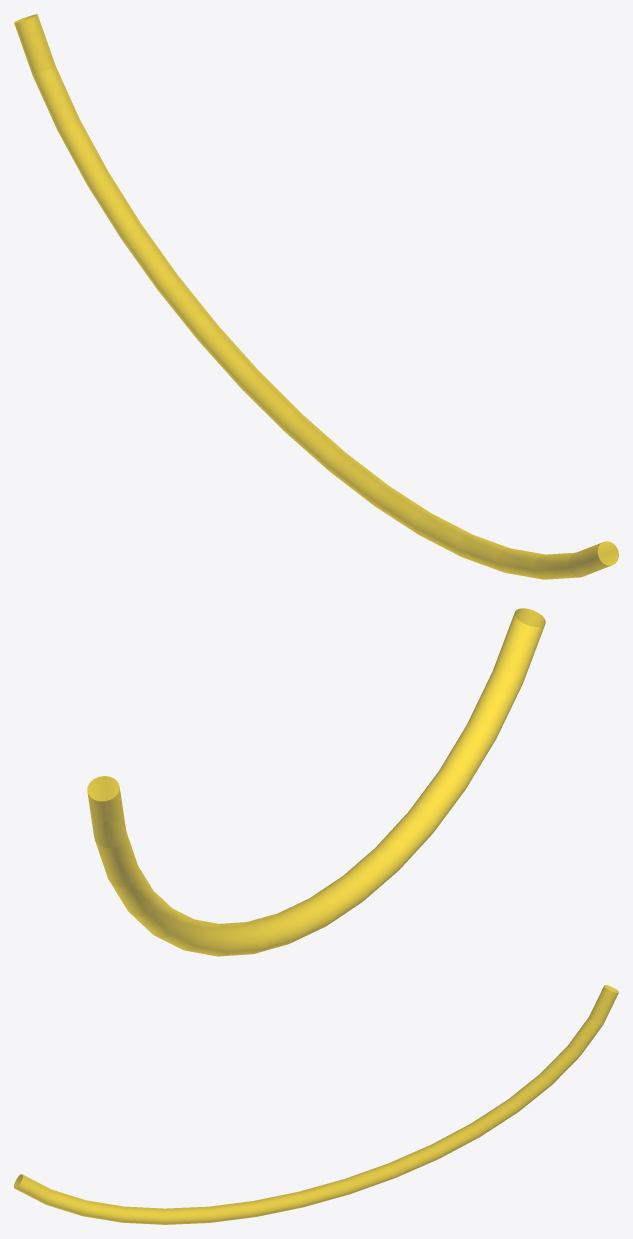
The model's file is Event_100608114_track_119.fbx.
The picture shows the model from 3 angles, top to bottom: view 1: azimuth 30°, elevation 25°; view 2: azimuth 150°, elevation 25°; view 3: azimuth 270°, elevation 25°; orthographic projection. The views are drawn at different scales.
Parts seen in each view (by area): view 1: Model; view 2: Model; view 3: Model.
Part boxes in pixels (box(x1,y1,x2,y2)): Model: box(14, 14, 618, 579); Model: box(87, 608, 545, 956); Model: box(14, 985, 618, 1224).
Bounding box in the file's own units: 0.2744 × 0.5597 × 1.48.
